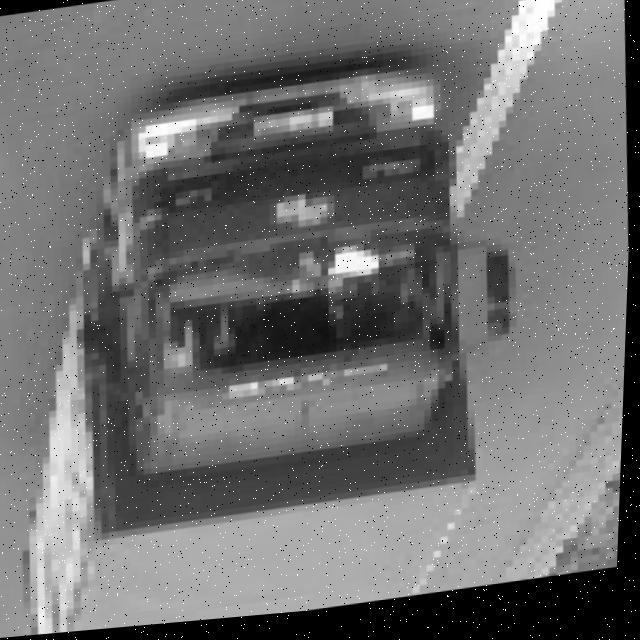truck: (46, 23, 546, 521)
